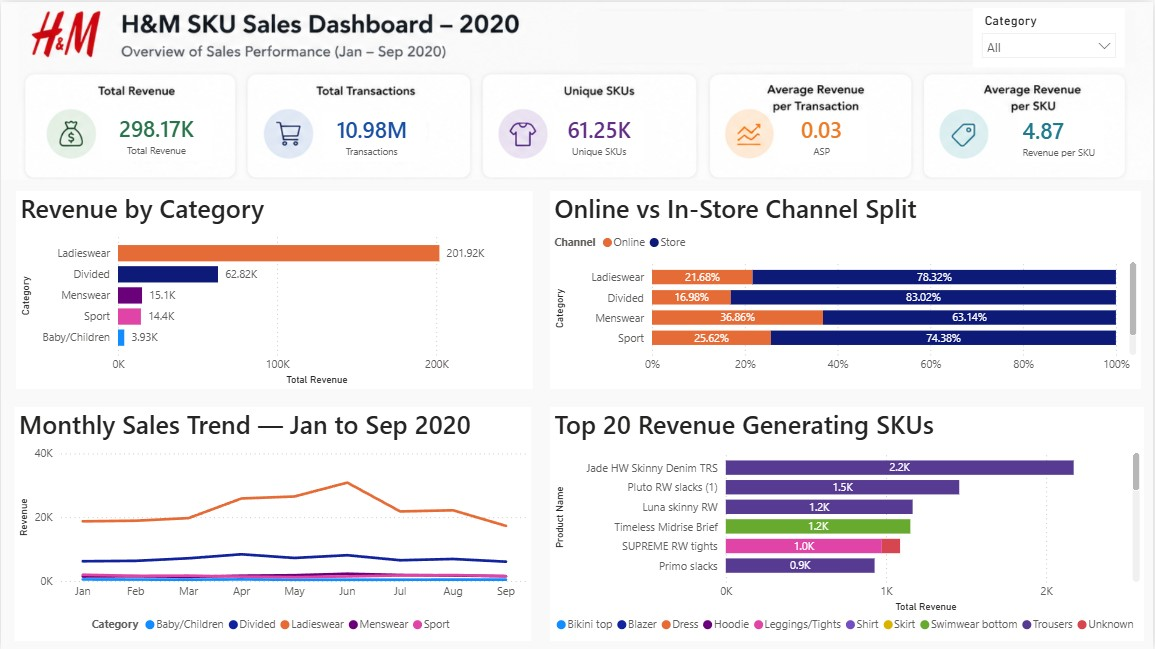

Layout of this report page (visuals, bound fields, positions):
{"tool":"powerbi","page":{"name":"Page 1","canvas":[1280,720],"ordinal":0},"visuals":[{"type":"group","id":"g1","title":"Group 1","box":[0,0,1280.4,200.4],"z":0},{"type":"clusteredBarChart","title":"Revenue by Category","fields":{"Category":["DimProduct.index_group_name"],"Y":["FactSales.Total Revenue"]},"box":[5.9,200,594.1,239.7],"z":1000},{"type":"lineChart","title":"Monthly Sales Trend — Jan to Sep 2020","fields":{"Category":["DimDate.Month"],"Y":["FactSales.Total Revenue"],"Series":["DimProduct.index_group_name"]},"box":[5.7,440,594.3,280],"z":2000},{"type":"barChart","title":"Top 20 Revenue Generating SKUs","fields":{"Category":["DimProduct.prod_name"],"Y":["FactSales.Total Revenue"],"Series":["DimProduct.product_type_name"]},"box":[600,440,680,280],"z":3000},{"type":"image","box":[0,0,1280,200],"z":4000,"group":"g1"},{"type":"hundredPercentStackedBarChart","title":"Online vs In-Store Channel Split","fields":{"Y":["FactSales.Total Revenue"],"Category":["DimProduct.index_group_name"],"Series":["DimChannel.Channel"]},"box":[600,200,676.5,239.7],"z":4000},{"type":"cardVisual","fields":{"Data":["FactSales.ASP"]},"box":[861.7,121.7,100,55.8],"z":5000,"group":"g1"},{"type":"cardVisual","fields":{"Data":["FactSales.Unique SKUs"]},"box":[614.2,120.8,99.2,55.8],"z":6000,"group":"g1"},{"type":"cardVisual","fields":{"Data":["FactSales.Transactions"]},"box":[358.3,120.8,107.5,55.8],"z":7000,"group":"g1"},{"type":"cardVisual","fields":{"Data":["FactSales.Total Revenue"]},"box":[111.6,120.8,122.8,56],"z":8000,"group":"g1"},{"type":"cardVisual","fields":{"Data":["FactSales.Revenue per SKU"]},"box":[1129.2,121.5,95.4,56.2],"z":9000,"group":"g1"},{"type":"slicer","title":"Department","fields":{"Values":["DimProduct.index_group_name"]},"box":[1080,7.1,168.6,65.7],"z":11000,"group":"g1"}]}

Visuals, with their boxes in screenshot pixels (x1, y1, x2, y2), scaled from the page's 1280x720 canvas onto the 1155x649 screenshot:
"Group 1" group: x1=0, y1=0, x2=1154, y2=181
"Revenue by Category" clusteredBarChart: x1=5, y1=180, x2=541, y2=396
"Monthly Sales Trend — Jan to Sep 2020" lineChart: x1=5, y1=397, x2=541, y2=648
"Top 20 Revenue Generating SKUs" barChart: x1=541, y1=397, x2=1154, y2=648
image: x1=0, y1=0, x2=1154, y2=180
"Online vs In-Store Channel Split" hundredPercentStackedBarChart: x1=541, y1=180, x2=1152, y2=396
cardVisual - FactSales.ASP: x1=778, y1=110, x2=868, y2=160
cardVisual - FactSales.Unique SKUs: x1=554, y1=109, x2=644, y2=159
cardVisual - FactSales.Transactions: x1=323, y1=109, x2=420, y2=159
cardVisual - FactSales.Total Revenue: x1=101, y1=109, x2=212, y2=159
cardVisual - FactSales.Revenue per SKU: x1=1019, y1=110, x2=1105, y2=160
"Department" slicer: x1=975, y1=6, x2=1127, y2=66
